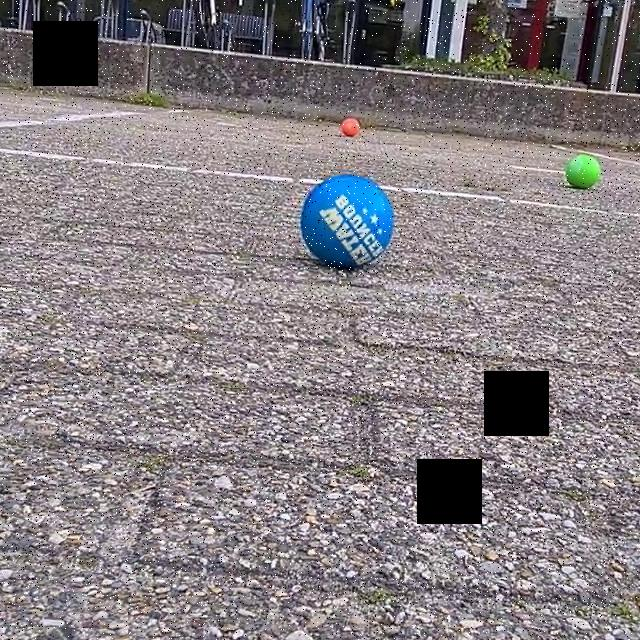ball: (562, 153, 604, 192), (338, 116, 362, 137)
